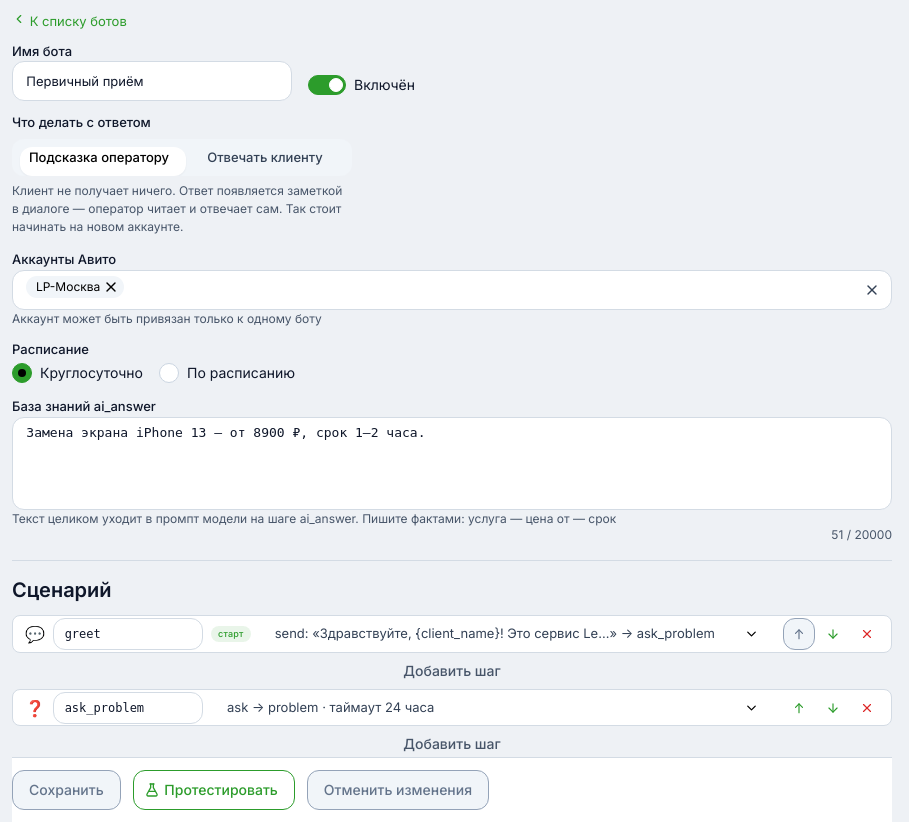
Test: Редактор бота — переименование шага › занятый идентификатор называется вслух, а набранное остаётся в поле
`ask_problem` — второй шаг сценария по умолчанию, имя занято им.
Replace the text in the field named "Идентификатор шага greet" with "ask_problem" at {"x": 128, "y": 634}, box [53,618,203,650]
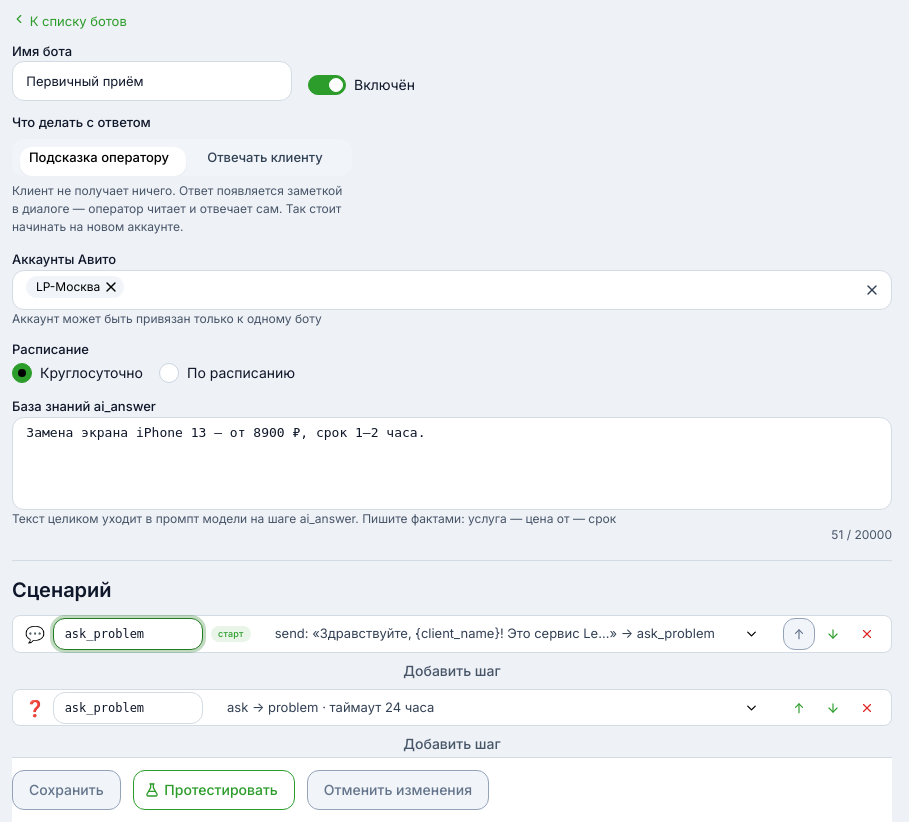
Press Tab
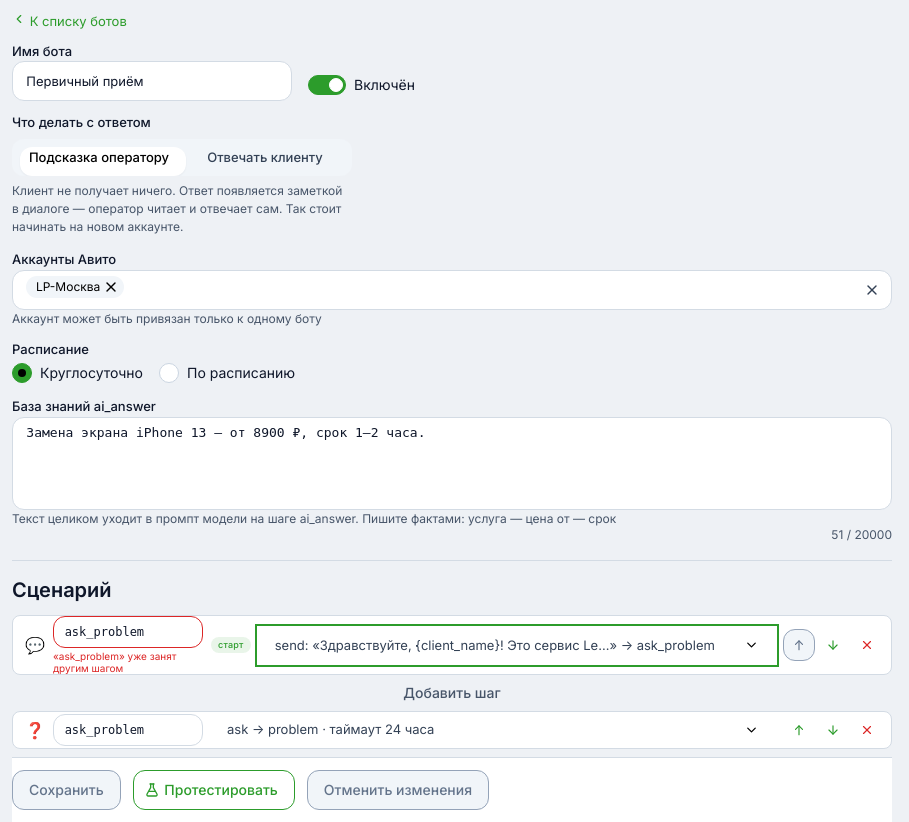
Check: the text "«ask_problem» уже занят другим шагом" is shown, box [53,650,176,674]
